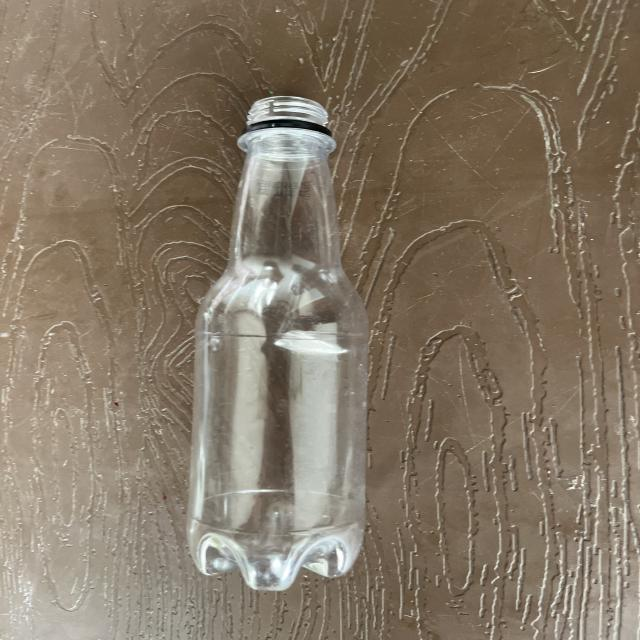PET_With_Cap: (192, 92, 370, 584)
